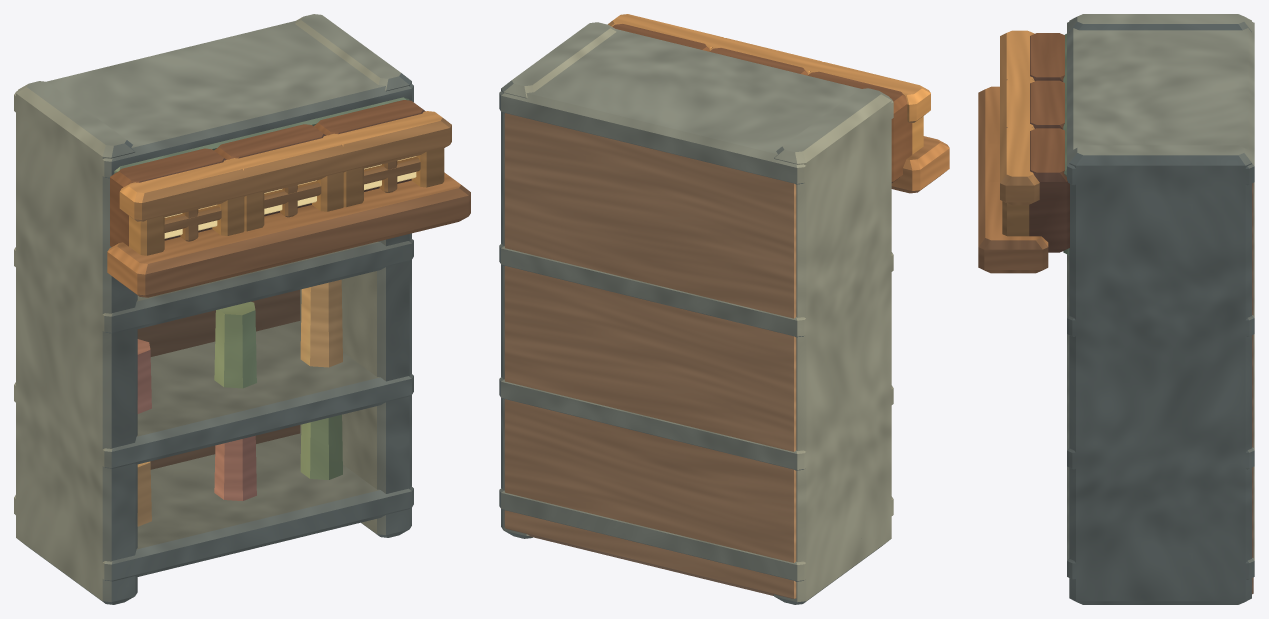
File: furniture_herbs.glb
3 views of the same model, side by side, from view 1: azimuth 30°, elevation 25°; view 2: azimuth 150°, elevation 25°; view 3: azimuth 270°, elevation 25° (orthographic). The views are drawn at different scales.
Visible parts, largest first — view 1: Kräutervitrine; view 2: Kräutervitrine; view 3: Kräutervitrine.
Part boxes in pixels (x1,y1,x2,y2): Kräutervitrine: (14, 14, 470, 604); Kräutervitrine: (499, 14, 949, 604); Kräutervitrine: (978, 14, 1254, 604).
Bounding box in the file's own units: 1.24 × 1.63 × 0.907.
Materials: 4 (3 with a texture image).
